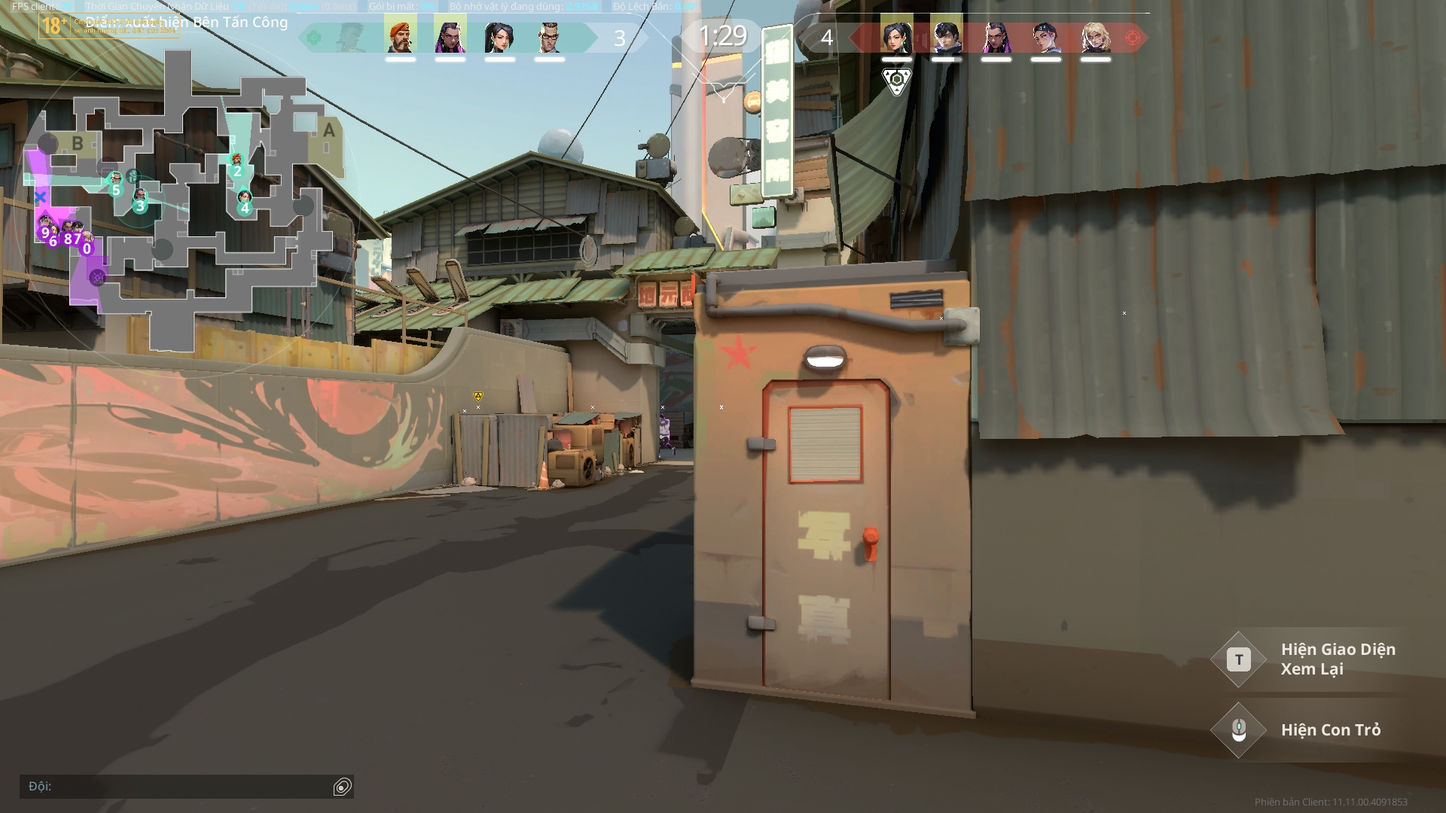body: (659, 418, 670, 435)
head: (660, 412, 665, 419)
